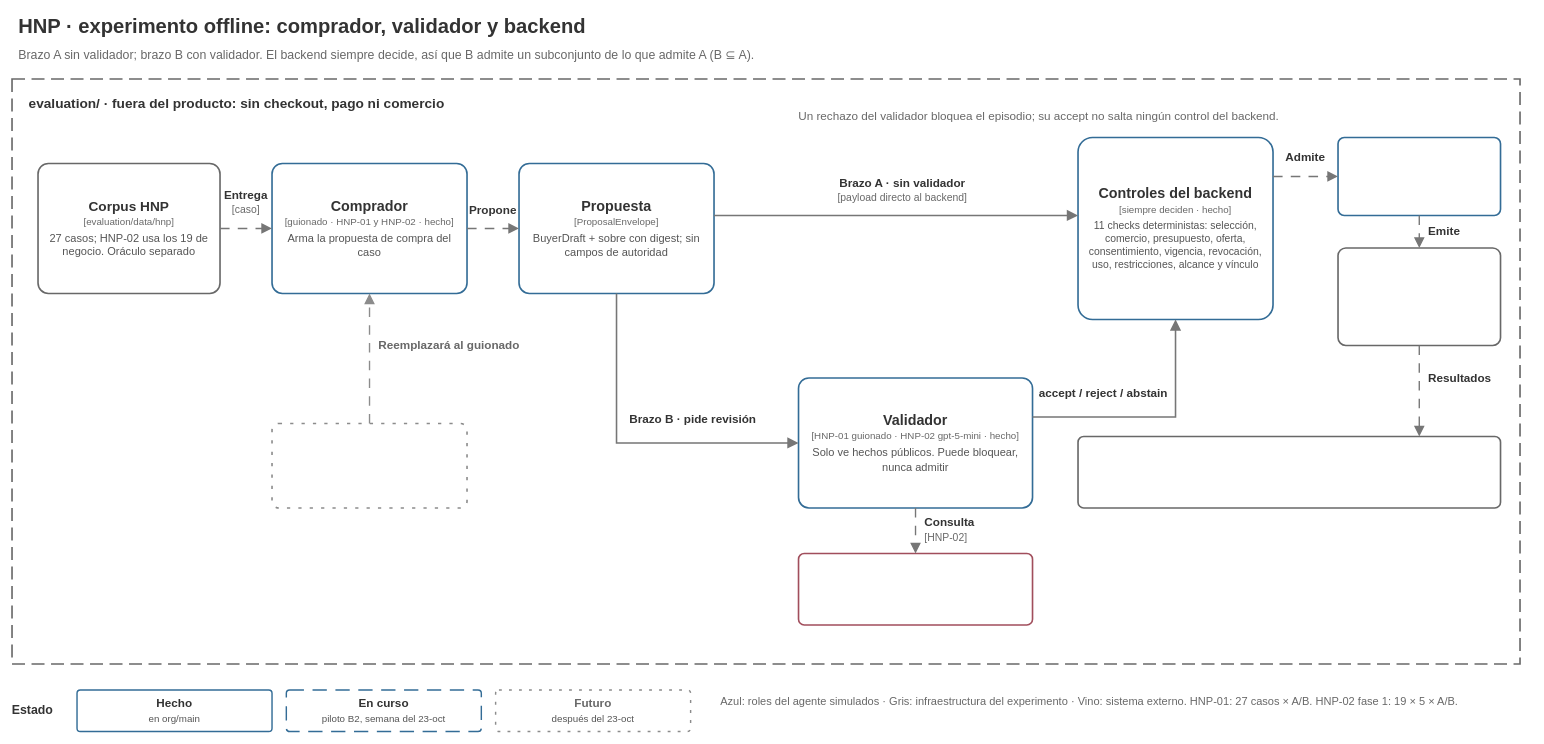
Some shapes in this 1544 by 744 pixel diagram are drawn without their labels. Each missing label, with the centre of its shape:
"Comprador LLM [futuro] Fase 2: preferencias y texto inyectado" goes at point (369, 465).
"Coordinador Escribe evidencia y emite un permiso" goes at point (1419, 176).
"OpenAI [Sistema externo · solo HNP-02] Responses API con tope de costo" goes at point (915, 588).
"Scoring Escapes, bloqueos falsos, capturas únicas, McNemar A/B, costo y latencia" goes at point (1289, 471).
"Sumidero ficticio En memoria; registra el efecto simulado y rechaza duplicados" goes at point (1419, 296).
